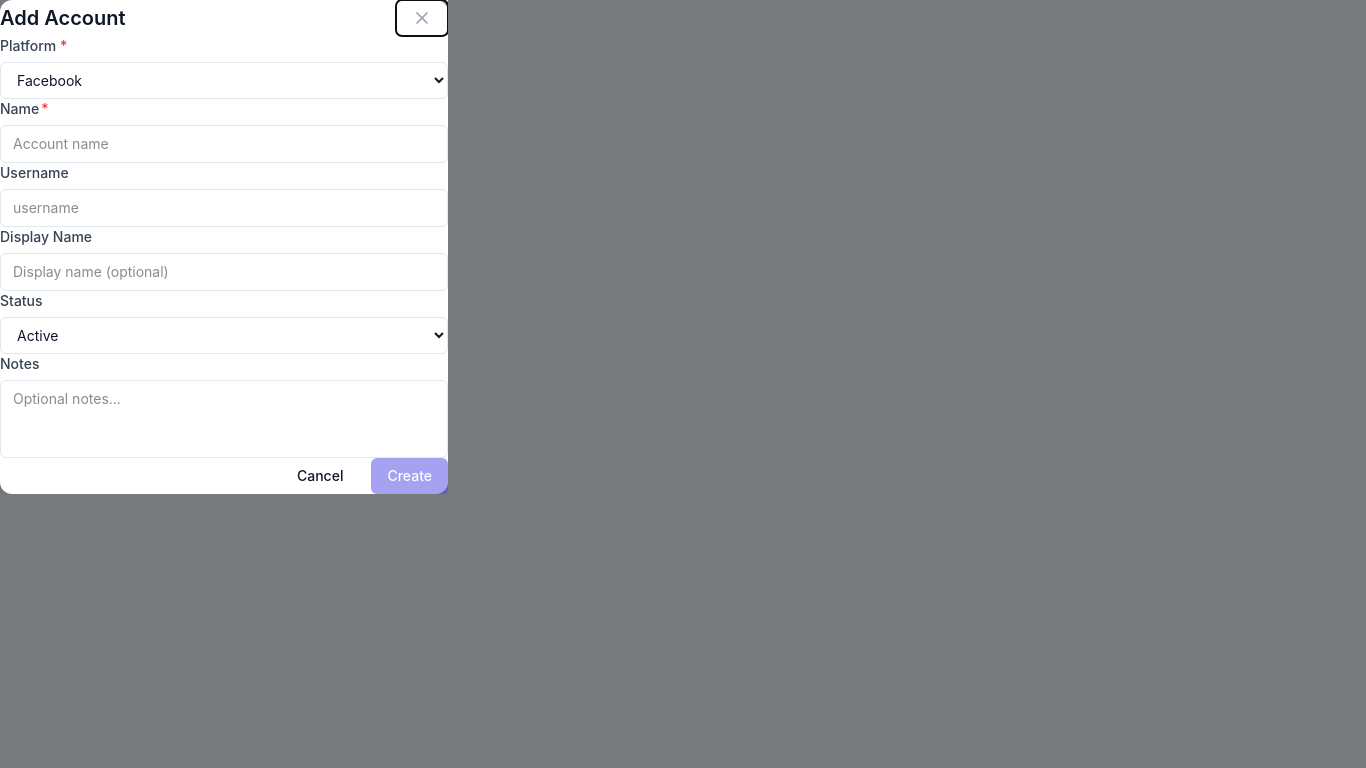
Test case: AccountFormModal › validation › validates username format
This screenshot has width=1366, height=768.
Type "Test" into the field labelled "Name *" at (224, 144), box [0,125,448,163]
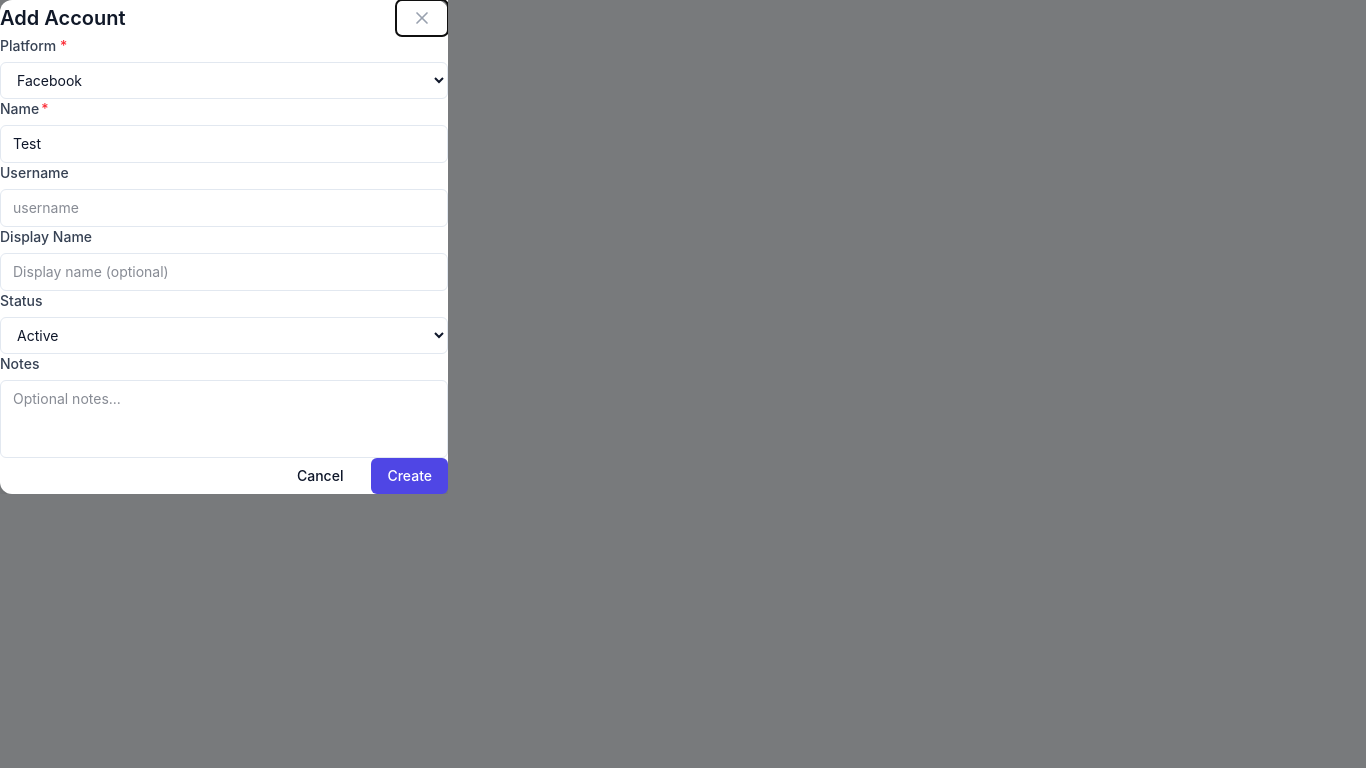
Type "invalid-user!" into the field labelled "Username" at (224, 208), box [0,189,448,227]
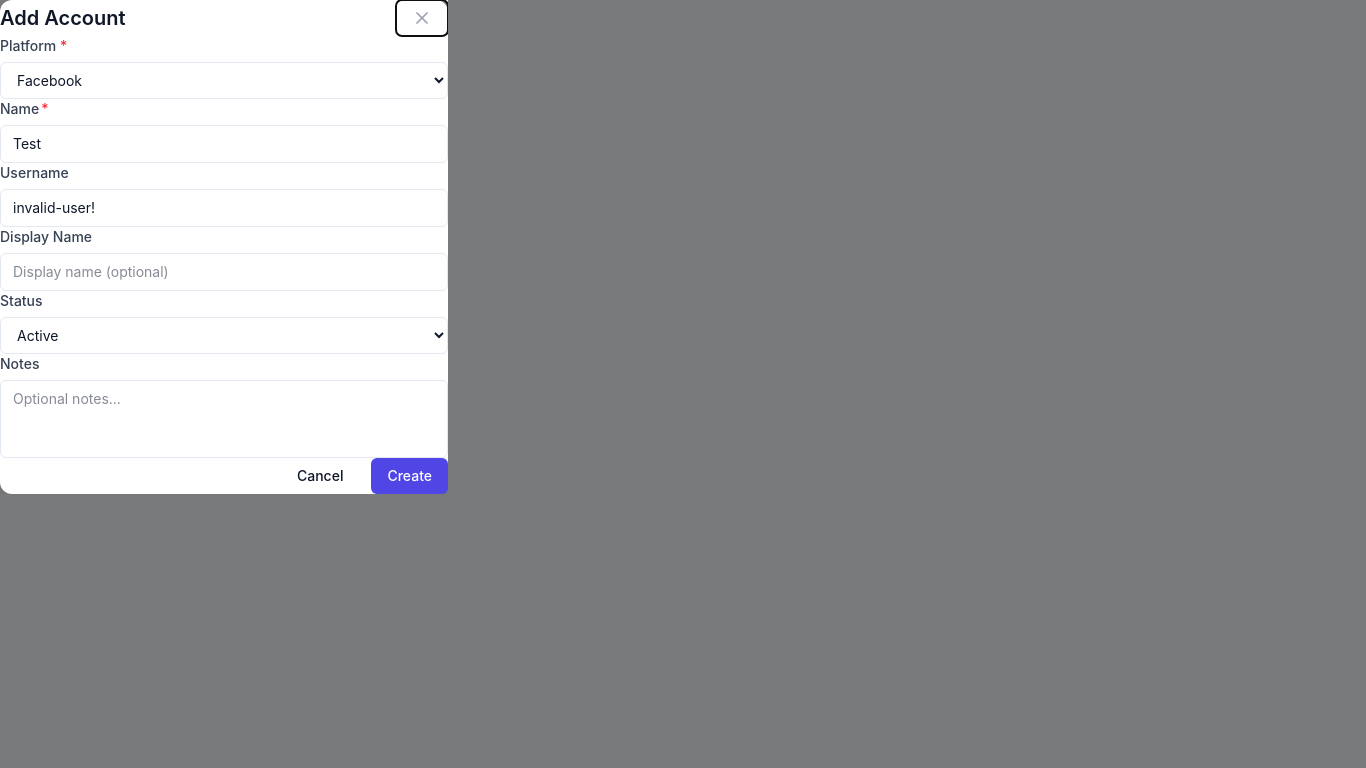
Click the button "Create" at (410, 476), box [371,458,448,494]
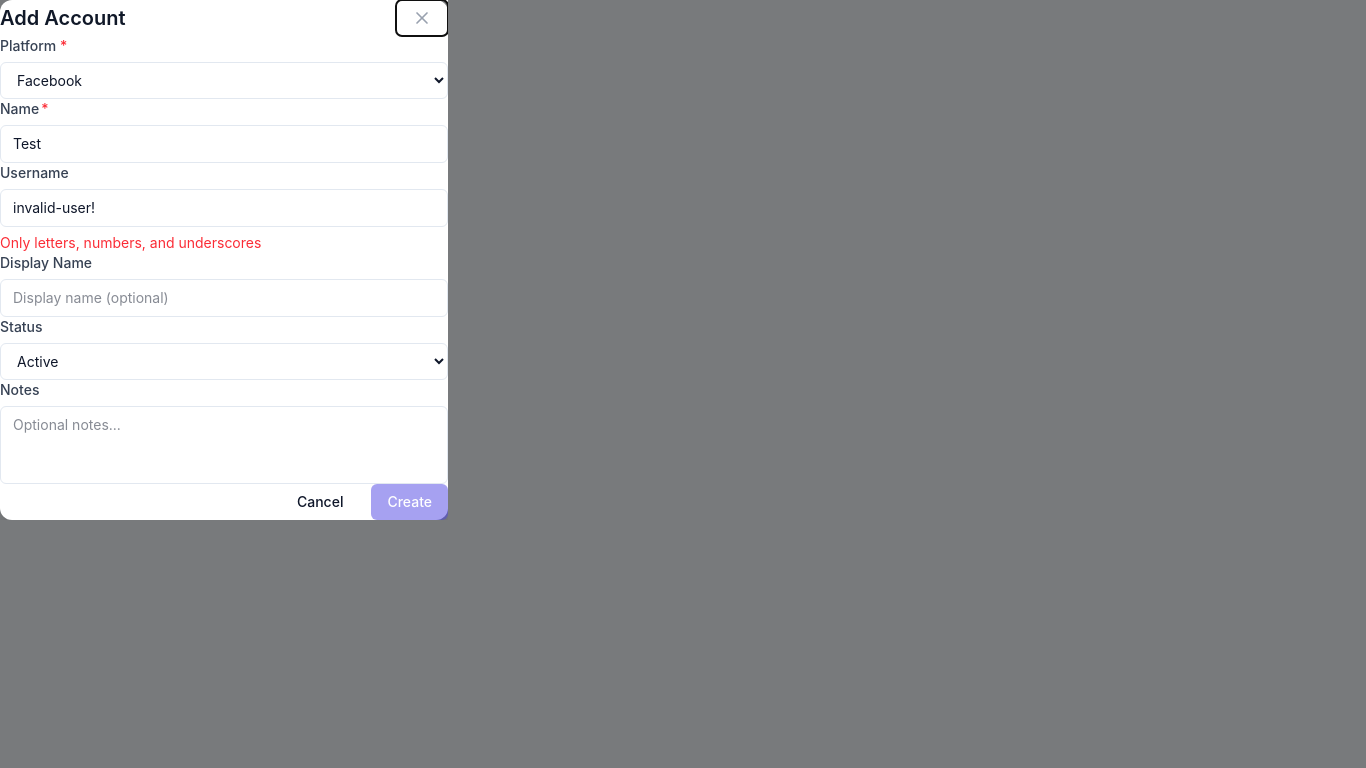
Result: the text "Only letters, numbers, and underscores" is shown at [0,234,261,251]
